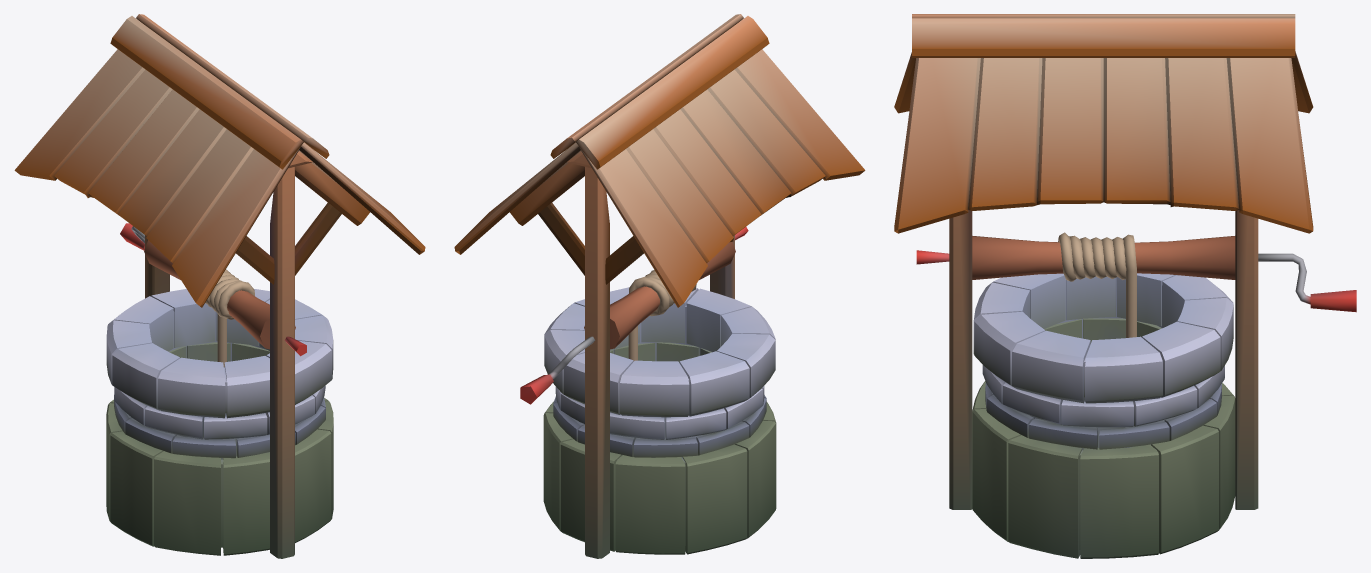
Rendered from Pack (2).fbx_Well_2.fbx.
The picture shows the model from 3 angles, left to right: view 1: azimuth 30°, elevation 25°; view 2: azimuth 150°, elevation 25°; view 3: azimuth 270°, elevation 25°; orthographic projection. The views are drawn at different scales.
Visible parts, largest first — view 1: Well 2; view 2: Well 2; view 3: Well 2.
Part boxes in pixels (bbox=[...]): Well 2: bbox=[14, 14, 425, 558]; Well 2: bbox=[454, 14, 865, 558]; Well 2: bbox=[894, 14, 1356, 558].
Bounding box in the file's own units: 299 × 536 × 459.
